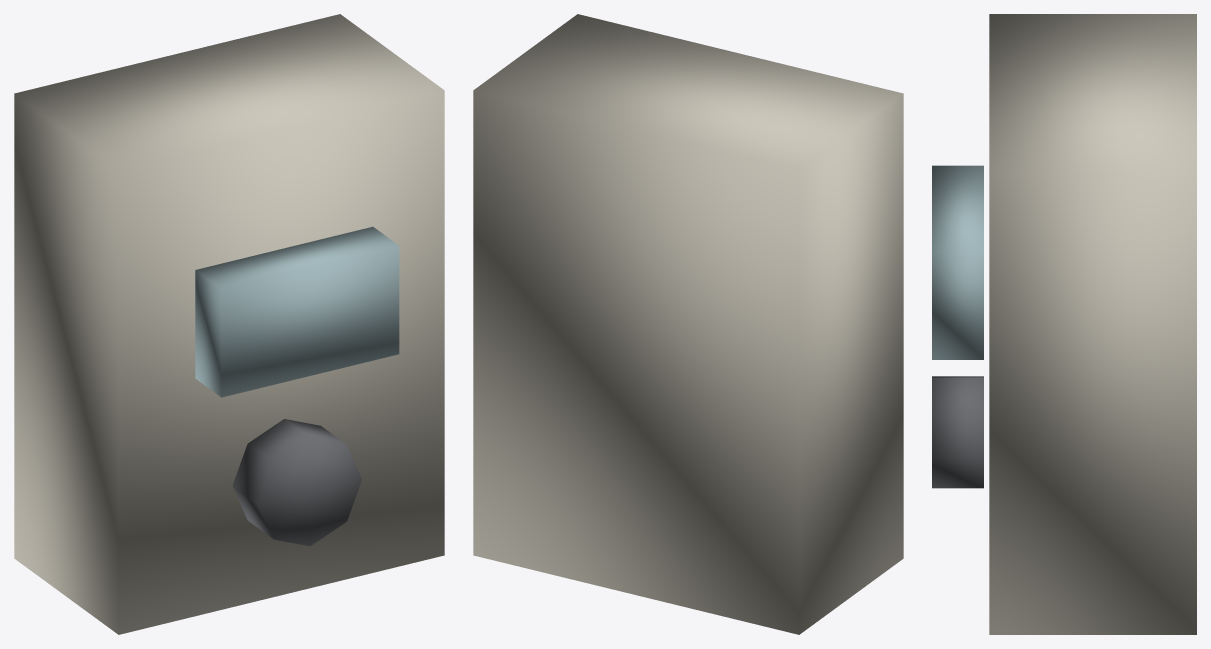
File: wall_thermostat__deep.glb
3 renders of one model, left to right at view 1: azimuth 30°, elevation 25°; view 2: azimuth 150°, elevation 25°; view 3: azimuth 270°, elevation 25°, orthographic.
Visible parts, largest first — view 1: world; view 2: world; view 3: world.
Part boxes in pixels (x1,y1,x2,y2): world: (14,14,444,634); world: (473,14,903,634); world: (932,14,1196,634).
Size of the model in its own units: 0.22 by 0.3 by 0.1556.
